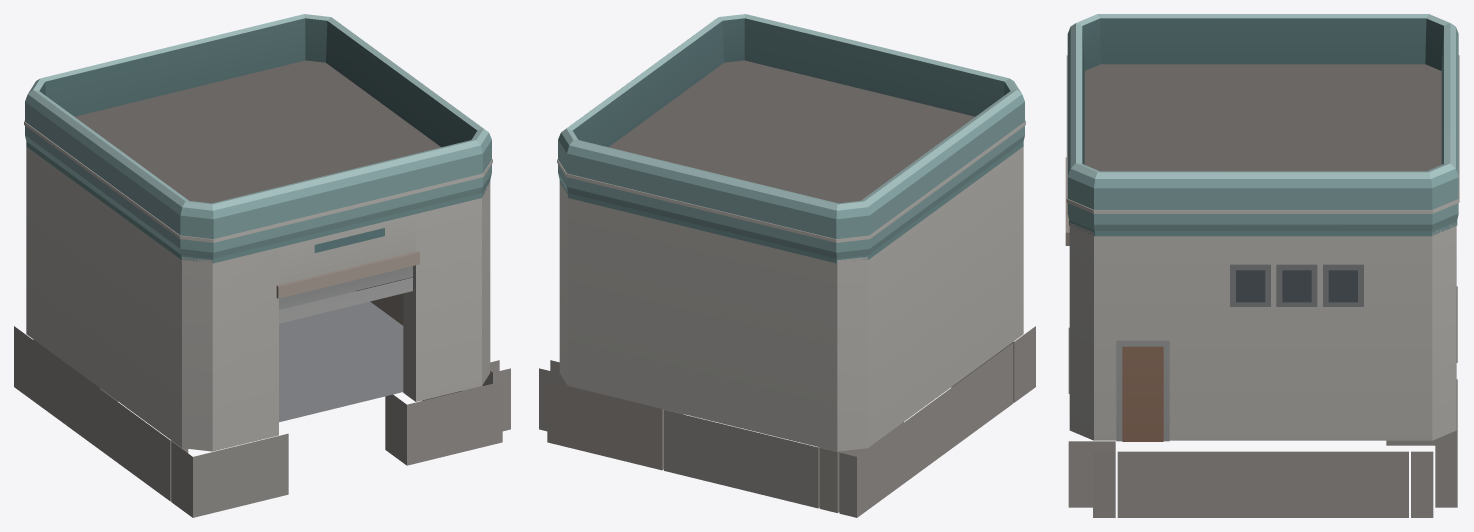
Rendered from garage.lod2.glb.
3 renders of one model, left to right at view 1: azimuth 30°, elevation 25°; view 2: azimuth 150°, elevation 25°; view 3: azimuth 270°, elevation 25°, orthographic. The views are drawn at different scales.
Bounding box in the file's own units: 8.5 × 7.5 × 8.09.
